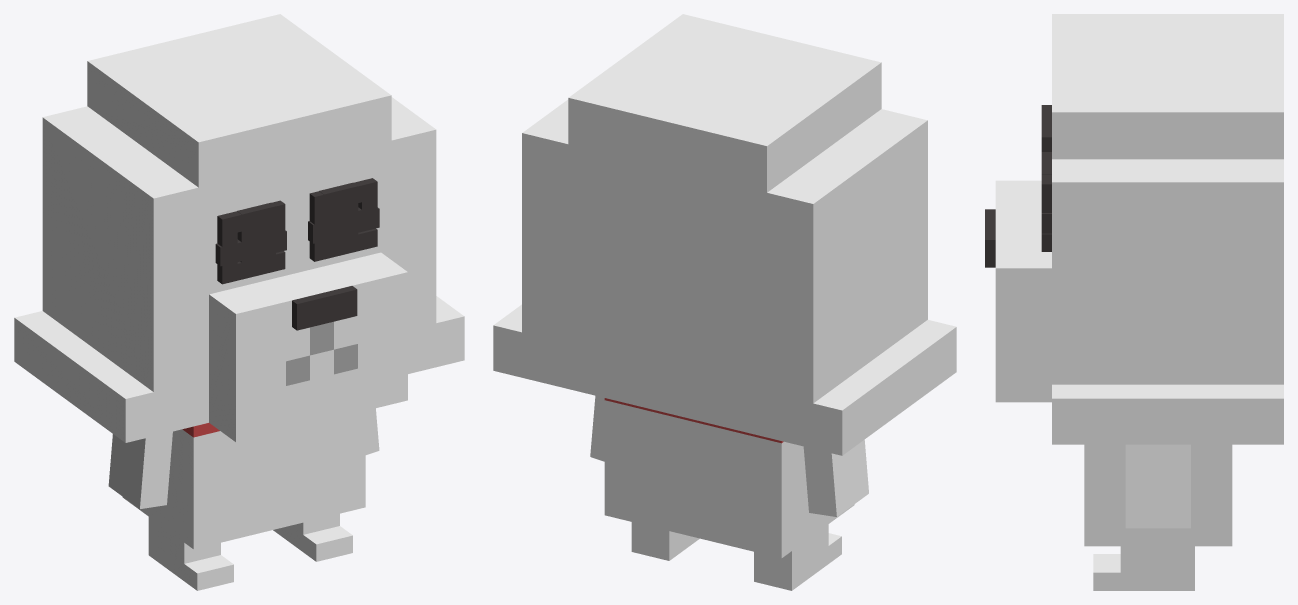
3 renders of one model, left to right at view 1: azimuth 30°, elevation 25°; view 2: azimuth 150°, elevation 25°; view 3: azimuth 270°, elevation 25°, orthographic. The views are drawn at different scales.
Visible parts, largest first — view 1: Ch_05, Ch_05_Wing_L, Ch_05_Leg_L, Ch_05_Eye_03_R, Ch_05_Leg_R, Ch_05_Eye_03_L; view 2: Ch_05, Ch_05_Wing_L, Ch_05_Leg_L, Ch_05_Leg_R, Ch_05_Wing_R; view 3: Ch_05, Ch_05_Wing_R, Ch_05_Leg_R, Ch_05_Eye_03_R.
Part boxes in pixels (<box>): Ch_05: <box>14,14,464,549</box>; Ch_05_Wing_L: <box>108,431,172,508</box>; Ch_05_Leg_L: <box>148,517,233,590</box>; Ch_05_Eye_03_R: <box>309,178,377,261</box>; Ch_05_Leg_R: <box>273,513,352,561</box>; Ch_05_Eye_03_L: <box>217,200,285,284</box>; Ch_05: <box>493,14,956,558</box>; Ch_05_Wing_L: <box>803,440,868,516</box>; Ch_05_Leg_L: <box>754,524,841,590</box>; Ch_05_Leg_R: <box>631,522,699,560</box>; Ch_05_Wing_R: <box>590,395,604,461</box>; Ch_05: <box>985,14,1283,546</box>; Ch_05_Wing_R: <box>1125,444,1190,528</box>; Ch_05_Leg_R: <box>1093,546,1194,590</box>; Ch_05_Eye_03_R: <box>1041,152,1051,251</box>.
Bounding box in the file's own units: 8.97 × 11.83 × 6.56.
